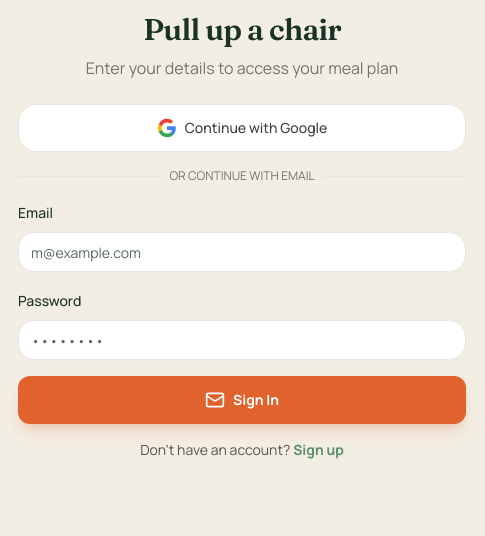
Test: AuthForm › handles invalid credential error
The width and height of the screenshot is (485, 536).
In the field labelled "Email": x=242, y=252 [18,232,466,272], type "test@example.com"
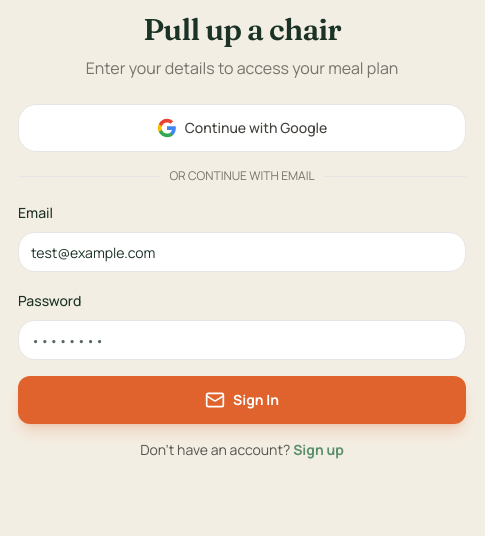
In the password field labelled "Password": x=242, y=340 [18,320,466,360], type "wrongpass"
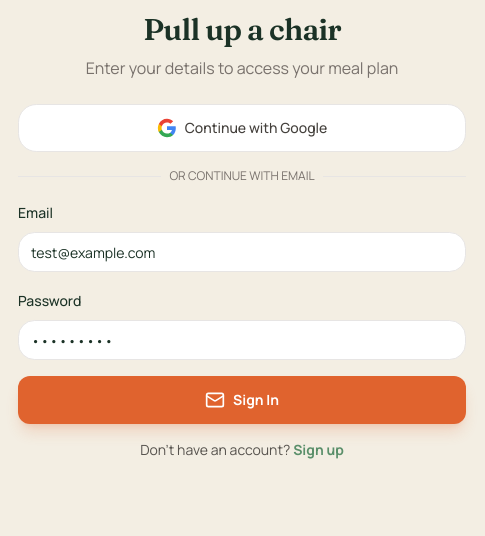
Click the button "Sign In": x=242, y=400 [18,376,466,424]
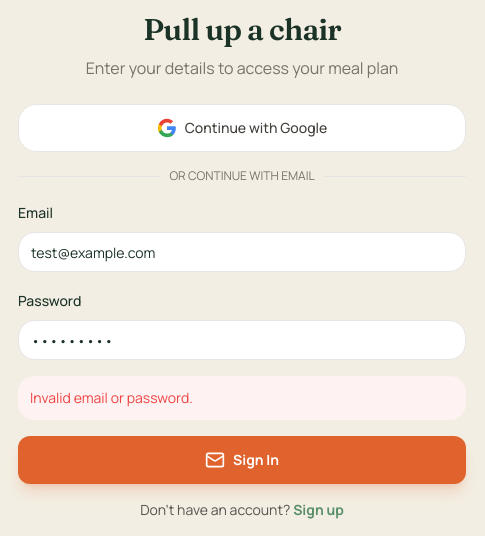
Expected: the text "Invalid email or password." is shown, [18,376,466,420]
